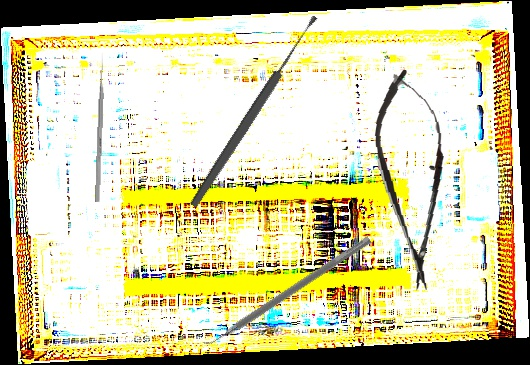Micro Scissor: (368, 66, 457, 294)
Pusher: (94, 52, 106, 203)
Spatula Surgical: (200, 228, 372, 353)
Surgical Spoon: (187, 13, 322, 210)
